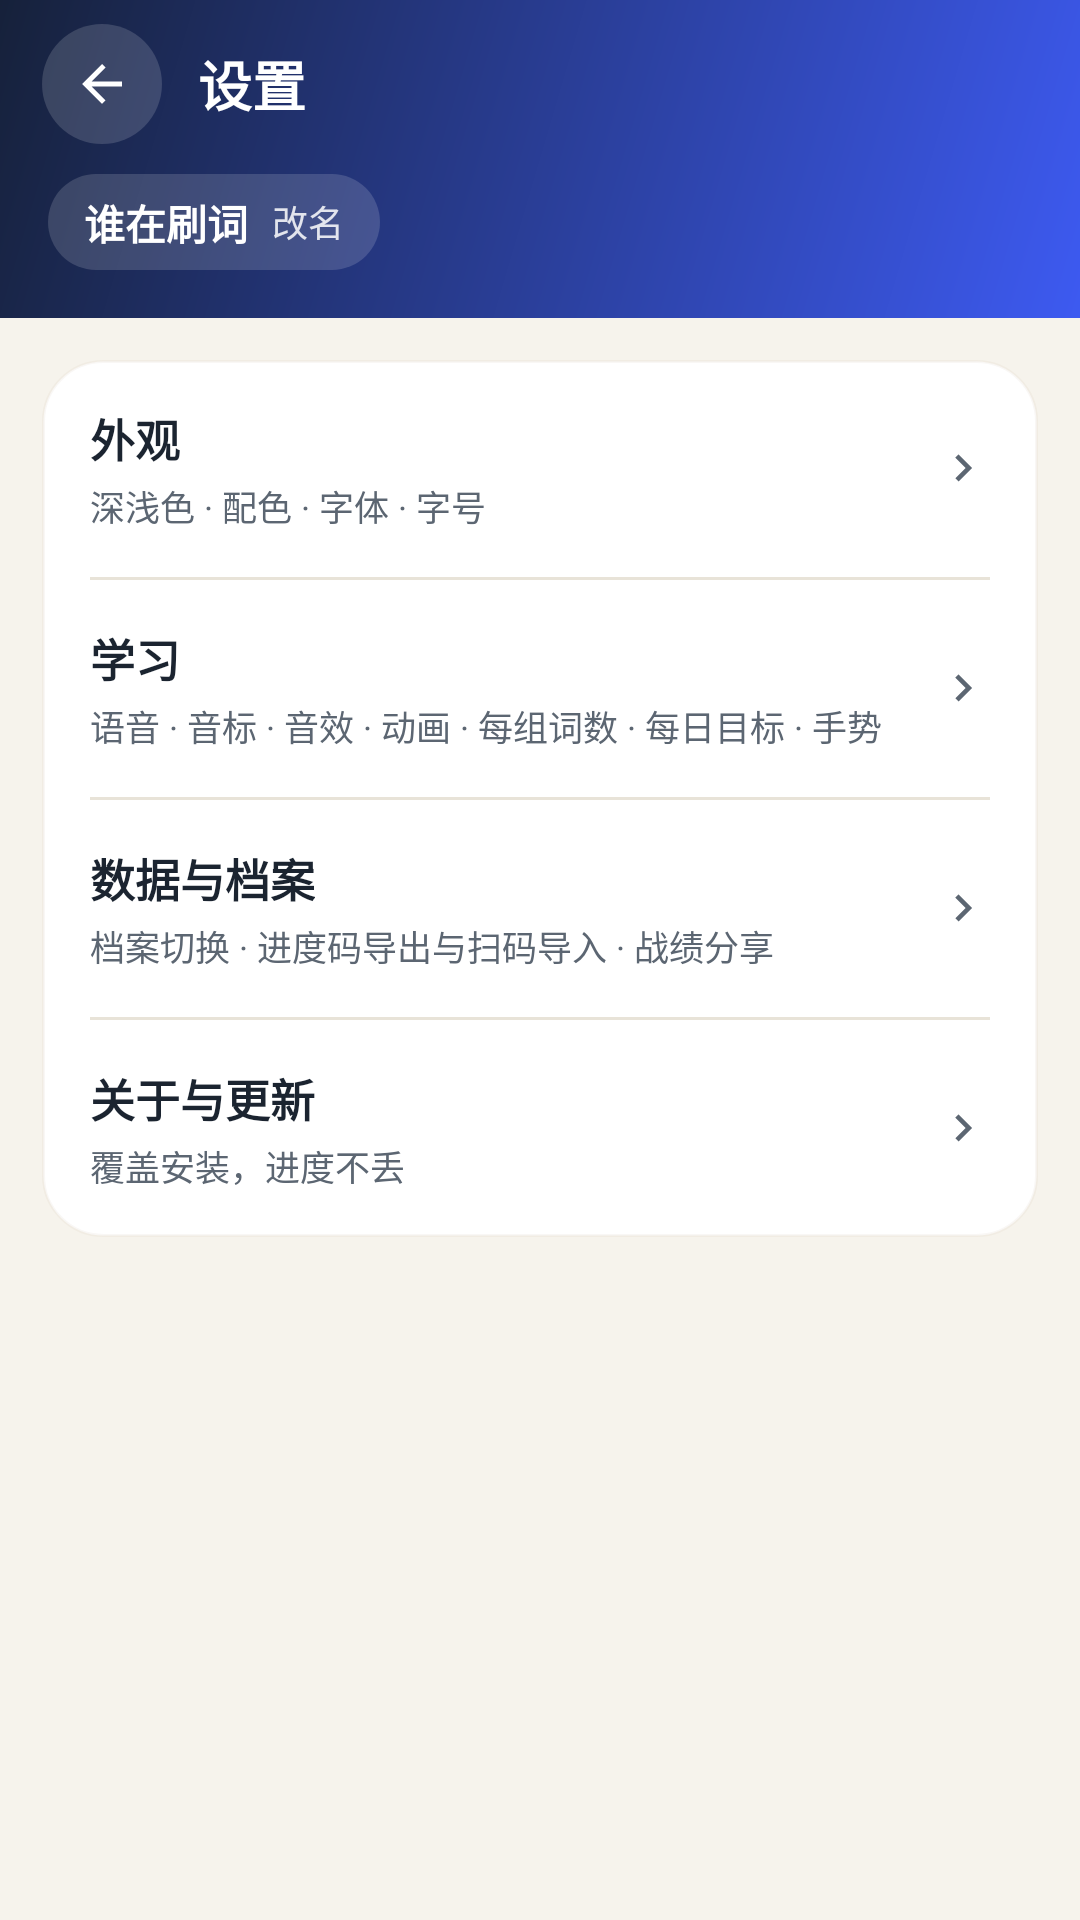

Icon click points for this 1080px x 1920px phone screenshot, format (x,y):
back: (102,84)
chevron: (963,468), (963,688), (963,908), (963,1128)
